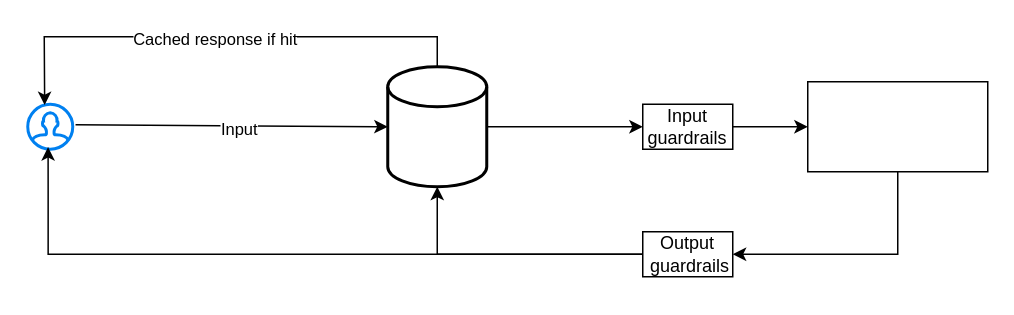
This 1014x315 diagram has some shape labels left out. Each missing label, with the box of its shape:
Cache: (386, 64, 488, 188)
GenAI Model - Deepseek, Self-hosted: (806, 80, 988, 172)
